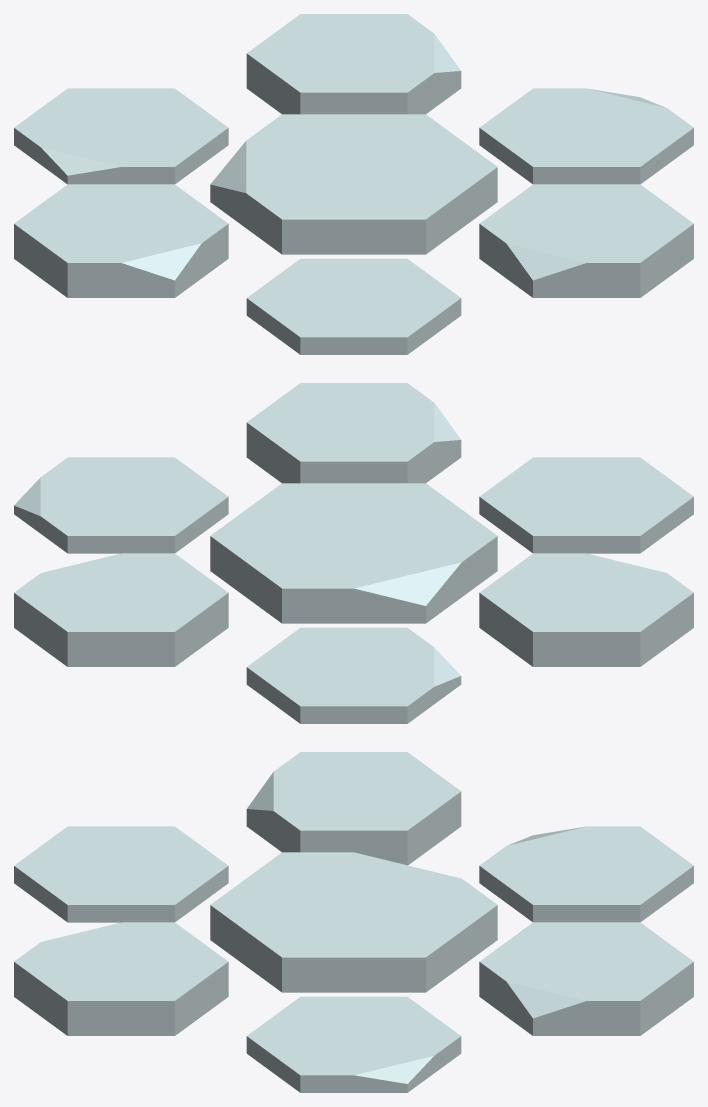
Rendered from path_stoneCircle.glb.
The picture shows the model from 3 angles, top to bottom: view 1: azimuth 30°, elevation 25°; view 2: azimuth 150°, elevation 25°; view 3: azimuth 270°, elevation 25°; orthographic projection.
Visible parts, largest first — view 1: path_stoneCircle; view 2: path_stoneCircle; view 3: path_stoneCircle.
Boxes of the visible parts, bbox=[...] form: path_stoneCircle: bbox=[14, 14, 693, 354]; path_stoneCircle: bbox=[14, 383, 693, 723]; path_stoneCircle: bbox=[14, 752, 693, 1092].
Bounding box in the file's own units: 0.9324 × 0.05 × 0.8766.
